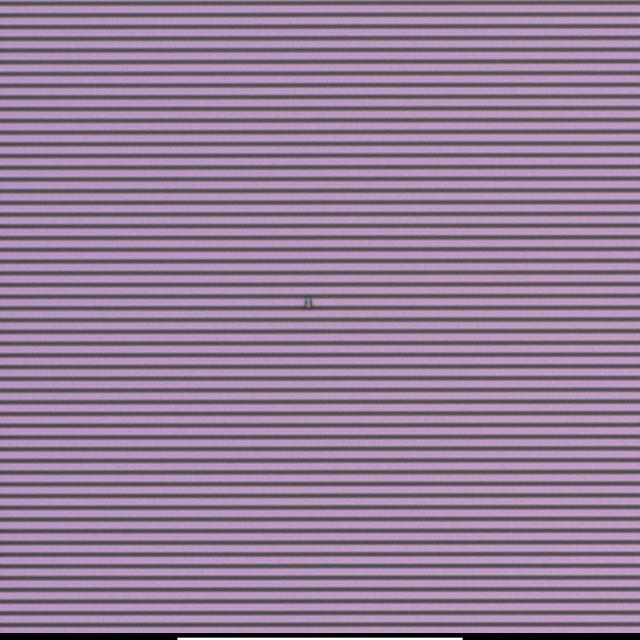03_intrusion: (296, 293, 318, 318)
